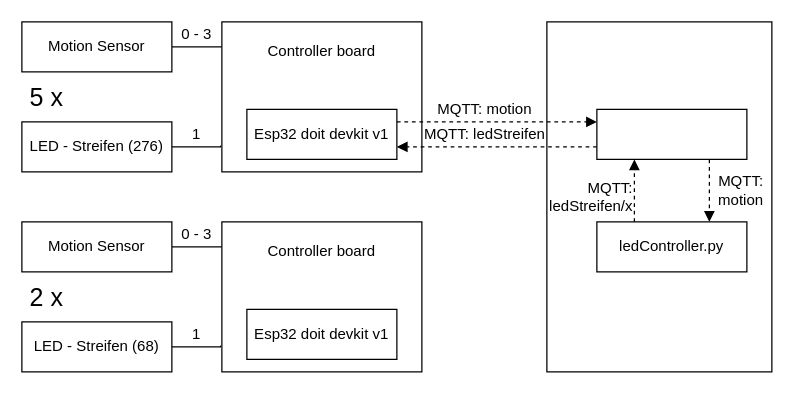
Some shapes in this 794 by 394 pixel diagram are drawn without their labels. The box of each missing label's shape, as (x1, y1, x2, y2) in pixels:
MQTT Broker: (596, 108, 747, 159)
Raspberry Pi: (546, 21, 772, 372)
